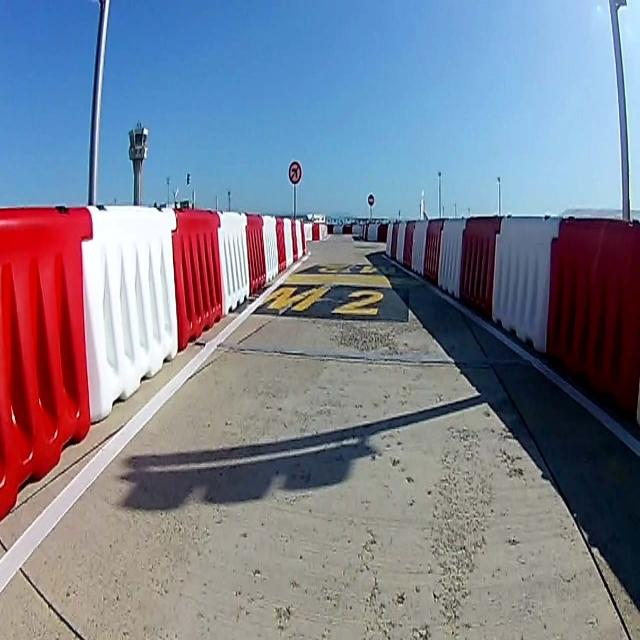soladonulmez: (288, 158, 302, 186)
